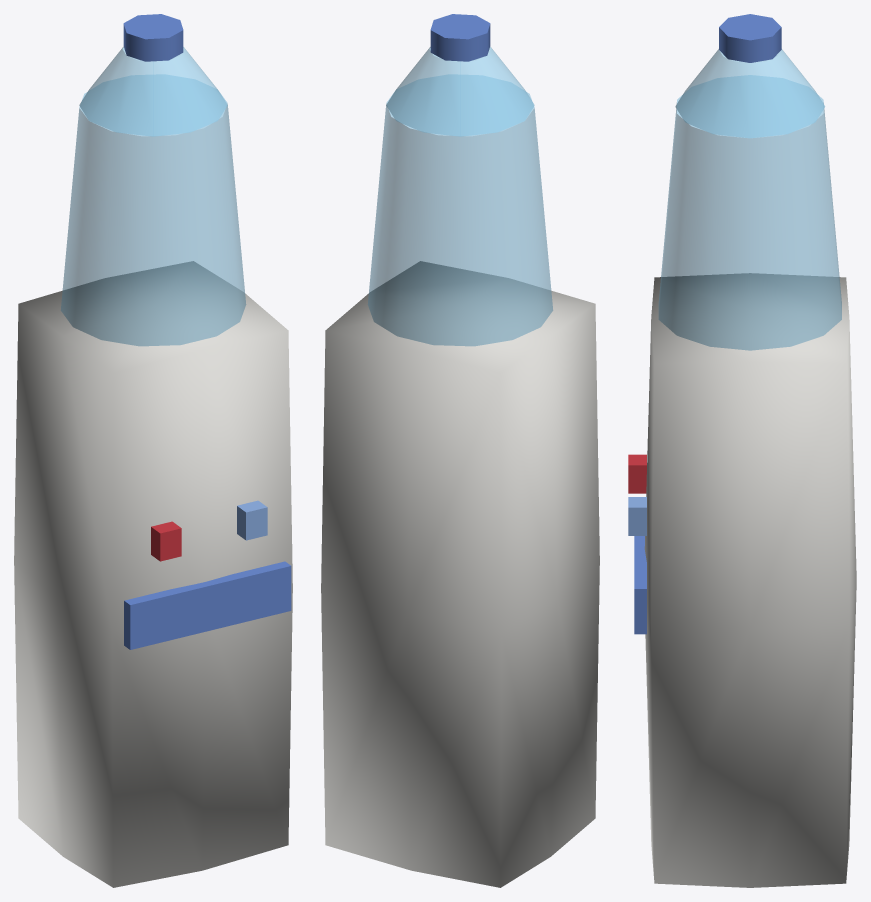
Rendered from water_cooler.glb.
The picture shows the model from 3 angles, left to right: view 1: azimuth 30°, elevation 25°; view 2: azimuth 150°, elevation 25°; view 3: azimuth 270°, elevation 25°; orthographic projection.
Visible parts, largest first — view 1: root; view 2: root; view 3: root.
Part boxes in pixels (left/top/right/bottom): root: left=14, top=14, right=292, bottom=887; root: left=321, top=14, right=599, bottom=887; root: left=628, top=14, right=856, bottom=887.
Size of the model in its own units: 0.36 by 1.45 by 0.365.
